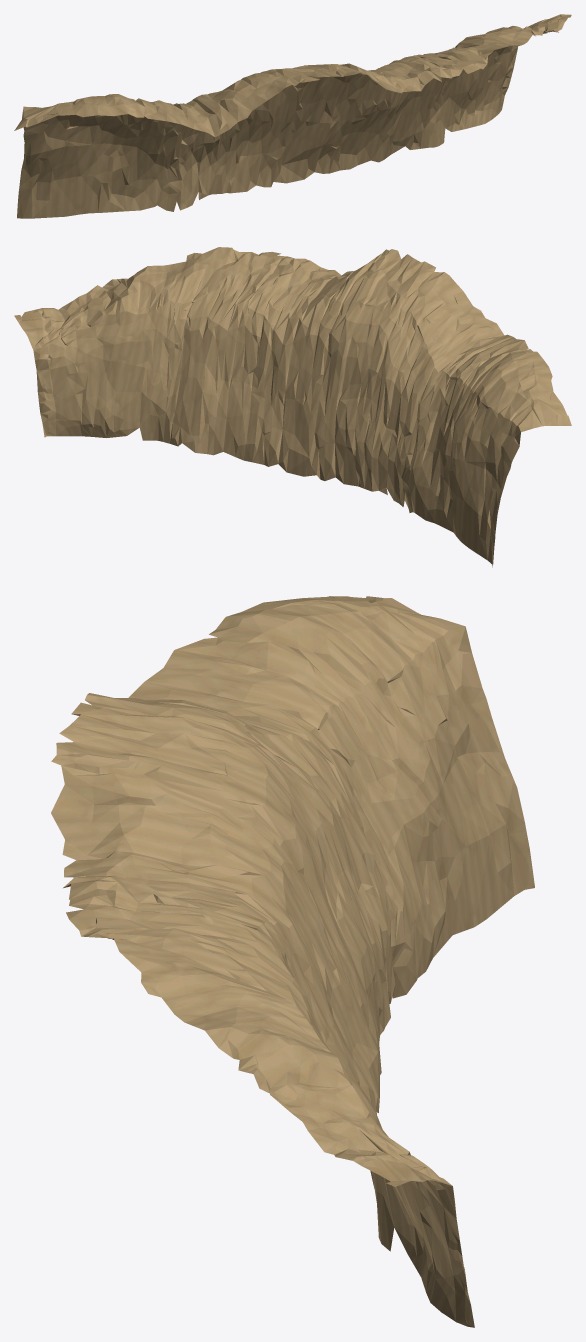
File: SM_ENV_TCHEXA_FaceRock_BG_01.fbx
3 renders of one model, top to bottom at view 1: azimuth 30°, elevation 25°; view 2: azimuth 150°, elevation 25°; view 3: azimuth 270°, elevation 25°, orthographic. The views are drawn at different scales.
Visible parts, largest first — view 1: SM_ENV_TCHEXA_FaceRock_BG_01.mo; view 2: SM_ENV_TCHEXA_FaceRock_BG_01.mo; view 3: SM_ENV_TCHEXA_FaceRock_BG_01.mo.
Part boxes in pixels (x1,y1,x2,y2): SM_ENV_TCHEXA_FaceRock_BG_01.mo: (14, 14, 571, 218); SM_ENV_TCHEXA_FaceRock_BG_01.mo: (14, 247, 571, 567); SM_ENV_TCHEXA_FaceRock_BG_01.mo: (51, 596, 534, 1327).
Bounding box in the file's own units: 65203 × 19941 × 24646.
